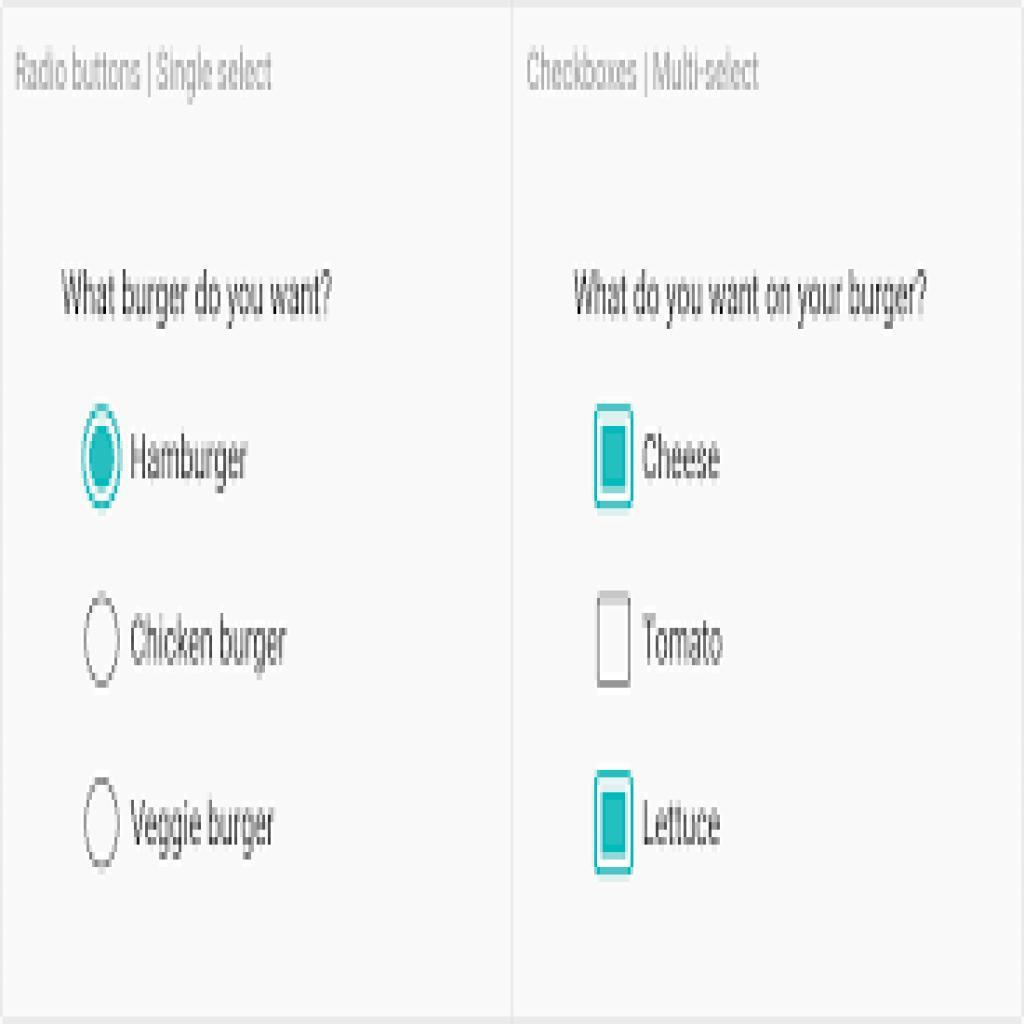checkbox: (593, 403, 637, 510), (594, 769, 636, 879), (598, 595, 632, 690)
label: (134, 610, 289, 679), (128, 794, 285, 857), (130, 430, 252, 490), (645, 604, 733, 674), (635, 791, 734, 853), (644, 431, 725, 485)
radio: (79, 588, 128, 692), (83, 395, 124, 518), (80, 771, 125, 874)
